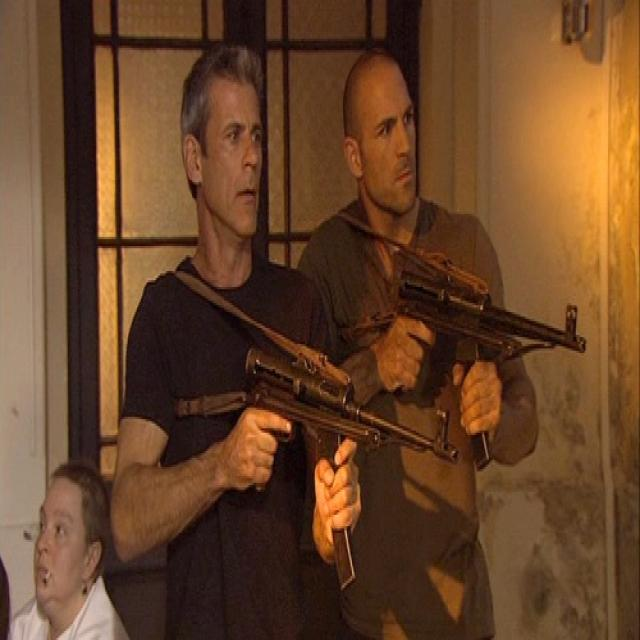rifle: (243, 338, 463, 592), (386, 239, 593, 477)
